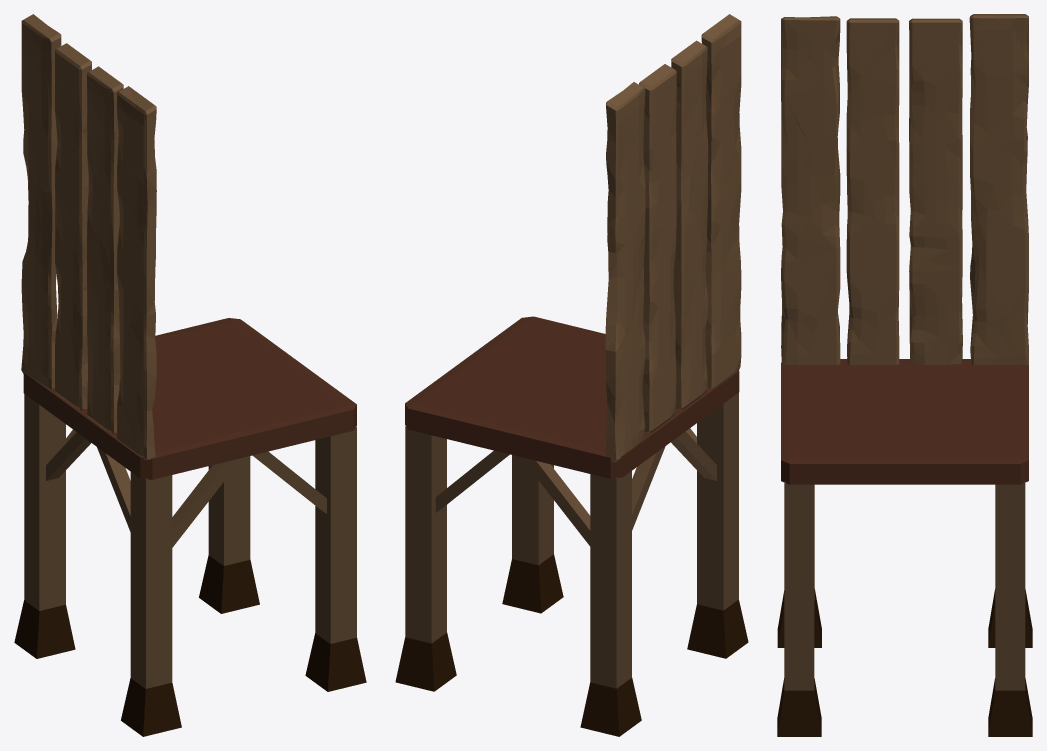
Rendered from Chair.fbx.
3 renders of one model, left to right at view 1: azimuth 30°, elevation 25°; view 2: azimuth 150°, elevation 25°; view 3: azimuth 270°, elevation 25°, orthographic.
Parts seen in each view (by area): view 1: Cube, plank3.004, plank3.006, plank3.005, plank3.007, Cube.002, Cube.019, Cube.021, Cube.023, Cube.022, Cube.024, Cube.020 (+5 smaller); view 2: Cube, plank3.006, plank3.004, plank3.005, plank3.007, Cube.021, Cube.023, Cube.002, Cube.019, Cube.022, Cube.018, Cube.020 (+5 smaller); view 3: Cube, plank3.004, plank3.006, plank3.005, plank3.007, Cube.019, Cube.023, Cube.024, Cube.020, Cube.022, Cube.018.
Part boxes in pixels (left/top/right/bottom): Cube: left=23, top=318, right=356, bottom=479; plank3.004: left=117, top=86, right=156, bottom=460; plank3.006: left=21, top=14, right=61, bottom=388; plank3.005: left=55, top=43, right=91, bottom=410; plank3.007: left=87, top=66, right=123, bottom=433; Cube.002: left=130, top=472, right=172, bottom=688; Cube.019: left=315, top=427, right=356, bottom=643; Cube.021: left=24, top=394, right=65, bottom=610; Cube.023: left=208, top=456, right=250, bottom=565; Cube.022: left=14, top=600, right=75, bottom=658; Cube.024: left=199, top=555, right=259, bottom=613; Cube.020: left=305, top=633, right=366, bottom=691; Cube: left=405, top=316, right=739, bottom=478; plank3.006: left=605, top=82, right=645, bottom=461; plank3.004: left=701, top=14, right=741, bottom=388; plank3.005: left=639, top=64, right=676, bottom=432; plank3.007: left=671, top=40, right=708, bottom=409; Cube.021: left=590, top=471, right=631, bottom=688; Cube.023: left=405, top=425, right=446, bottom=643; Cube.002: left=697, top=392, right=738, bottom=610; Cube.019: left=512, top=455, right=553, bottom=565; Cube.022: left=580, top=678, right=641, bottom=736; Cube.018: left=687, top=599, right=748, bottom=658; Cube.020: left=502, top=554, right=563, bottom=613; Cube: left=781, top=359, right=1028, bottom=484; plank3.004: left=781, top=16, right=840, bottom=364; plank3.006: left=969, top=14, right=1028, bottom=365; plank3.005: left=909, top=18, right=962, bottom=364; plank3.007: left=846, top=18, right=899, bottom=364; Cube.019: left=784, top=481, right=814, bottom=690; Cube.023: left=995, top=482, right=1025, bottom=690; Cube.024: left=988, top=678, right=1032, bottom=736; Cube.020: left=777, top=678, right=821, bottom=736; Cube.022: left=988, top=589, right=1032, bottom=647; Cube.018: left=777, top=589, right=821, bottom=647.
Bounding box in the file's own units: 84.44 × 227 × 84.46.
